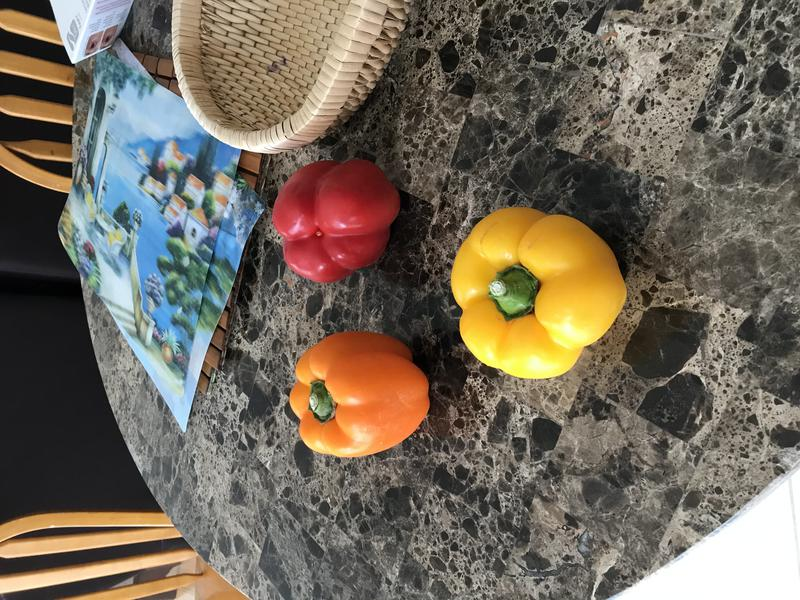orange_pepper: (282, 328, 435, 463)
red_pepper: (273, 153, 403, 286)
yellow_pepper: (443, 199, 635, 385)
